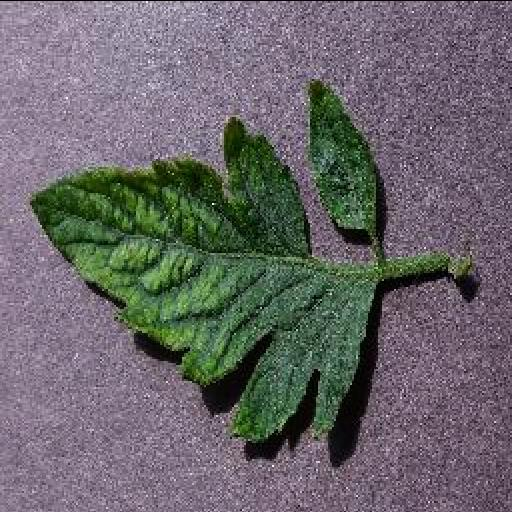disease_tomato: (22, 110, 382, 440)
